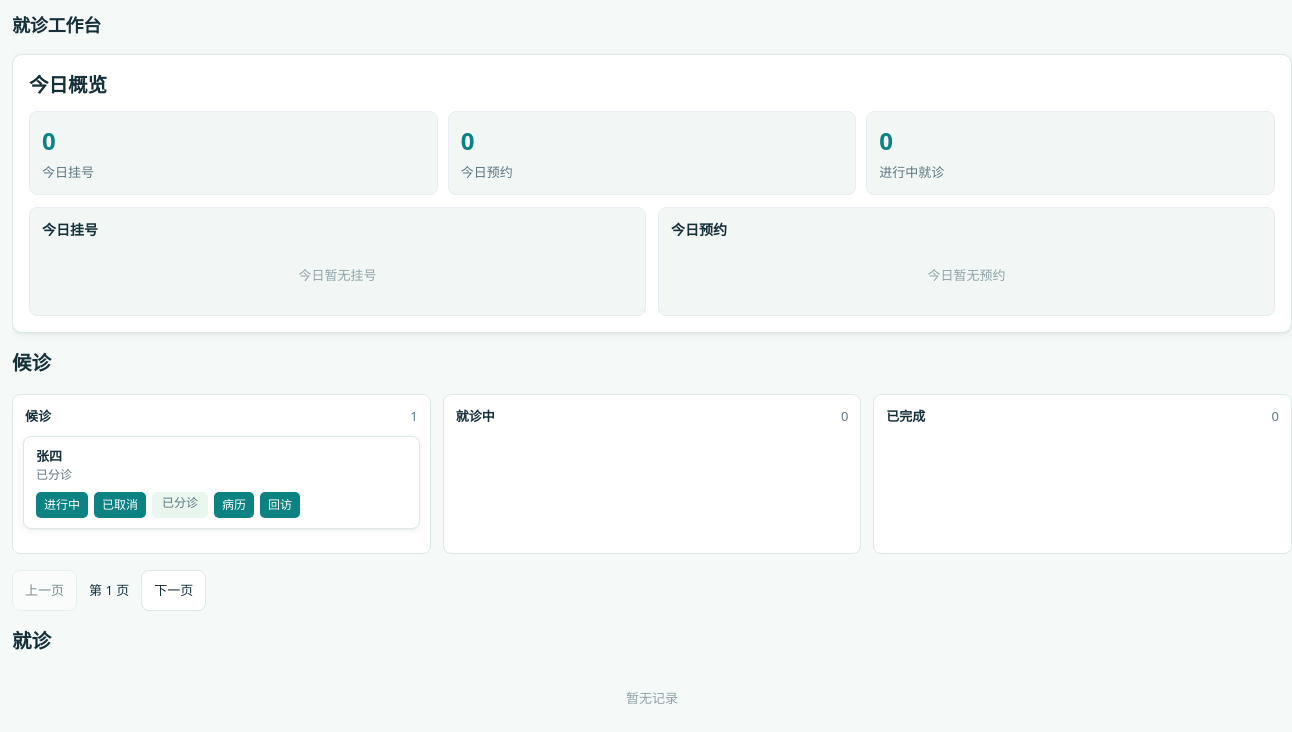
ClinicalWorkflowPage › ignores board transitions while the registration list is stale
The width and height of the screenshot is (1292, 732).
Check: the text "张四" is shown, box [36,447,62,465]
Click the button "下一页".
click(174, 590)  # box [141,570,206,611]
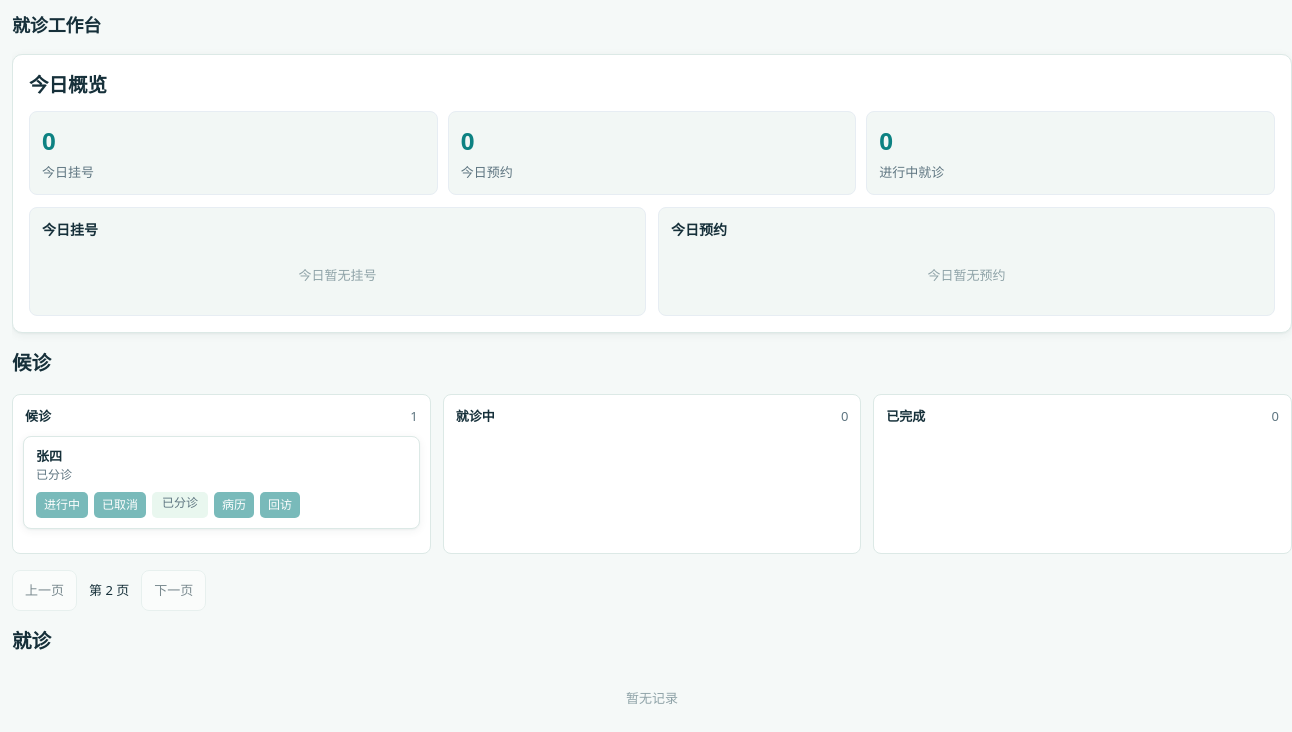
Check: the button "下一页" is disabled, box [141,570,206,611]
